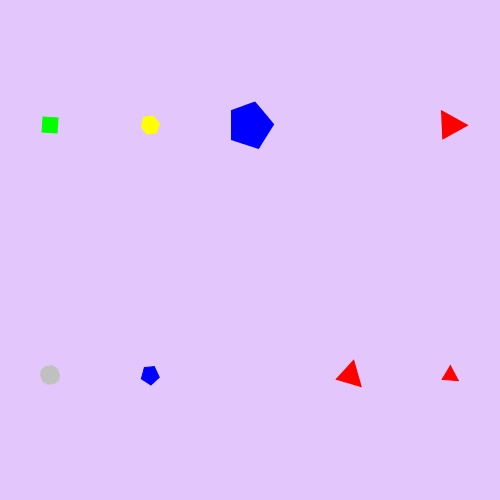decagon: (35, 361, 65, 389)
hexagon: (135, 112, 165, 138)
pentagon: (224, 99, 277, 152), (136, 361, 164, 389)
quadrilateral: (35, 110, 66, 141)
triangle: (433, 107, 468, 143), (334, 358, 367, 392), (438, 362, 463, 388)
